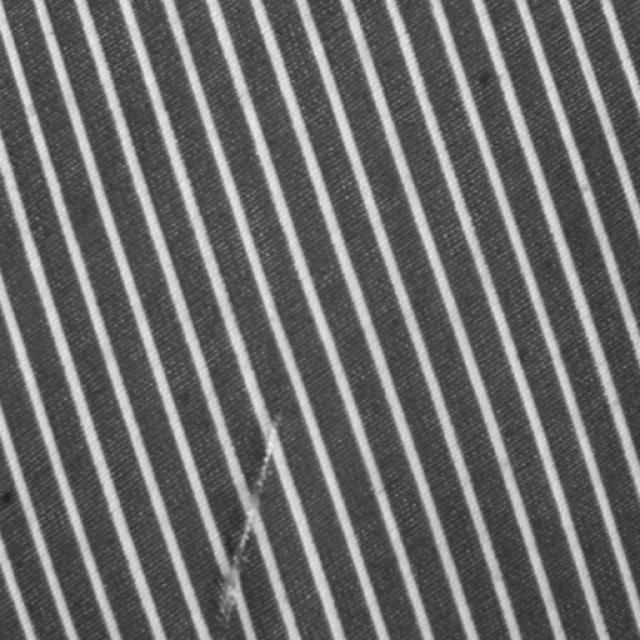Thread-Defect: (219, 416, 280, 625)
